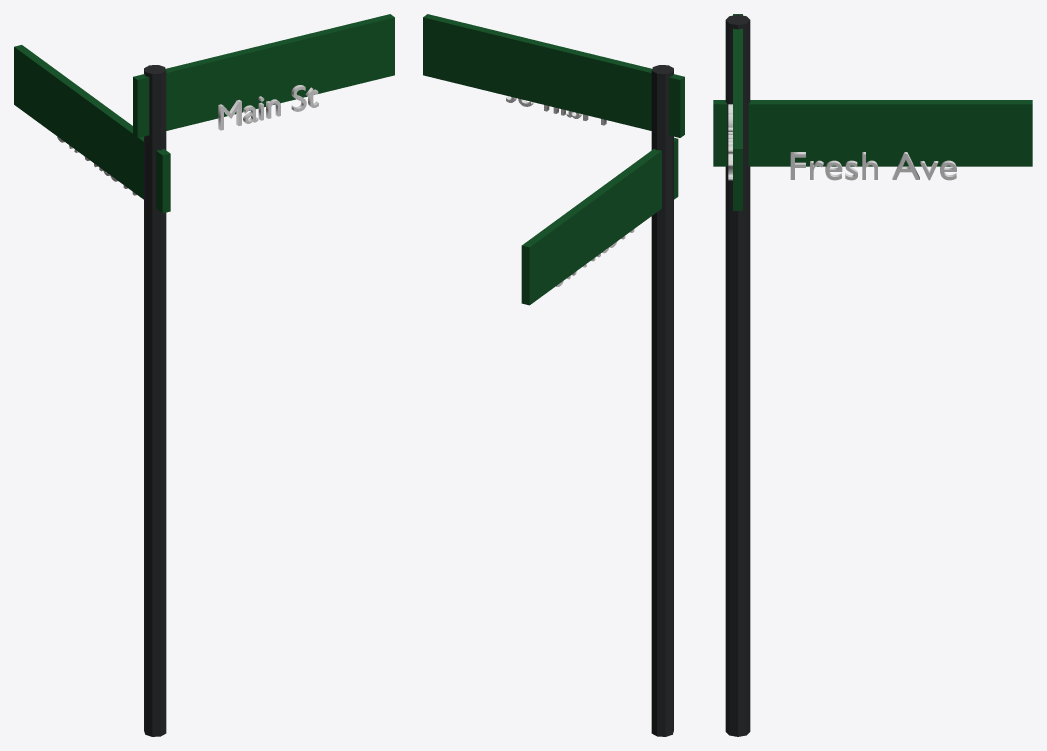
Rendered from PROP_REAL_StreetSign_MainFresh.glb.
3 renders of one model, left to right at view 1: azimuth 30°, elevation 25°; view 2: azimuth 150°, elevation 25°; view 3: azimuth 270°, elevation 25°, orthographic. The views are drawn at different scales.
Parts seen in each view (by area): view 1: PROP_REAL_StreetSign_MainFresh; view 2: PROP_REAL_StreetSign_MainFresh; view 3: PROP_REAL_StreetSign_MainFresh.
Boxes of the visible parts, box(x1,y1,x2,y2) form: PROP_REAL_StreetSign_MainFresh: box(14, 14, 394, 736); PROP_REAL_StreetSign_MainFresh: box(423, 14, 684, 736); PROP_REAL_StreetSign_MainFresh: box(713, 14, 1032, 736).
Size of the model in its own units: 1.3 by 3.2 by 1.3.
